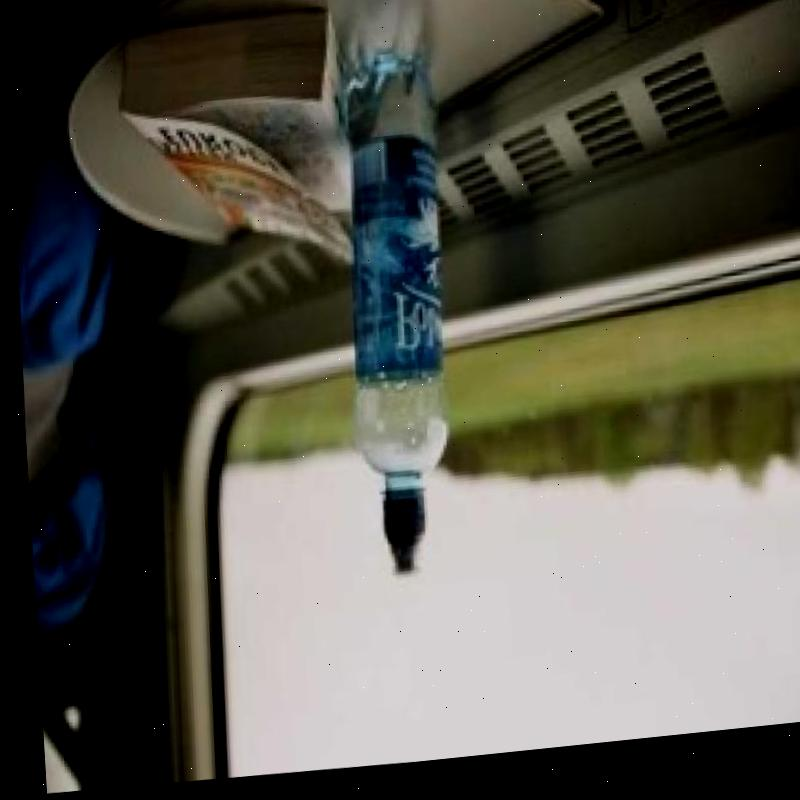botella: (322, 58, 468, 599)
